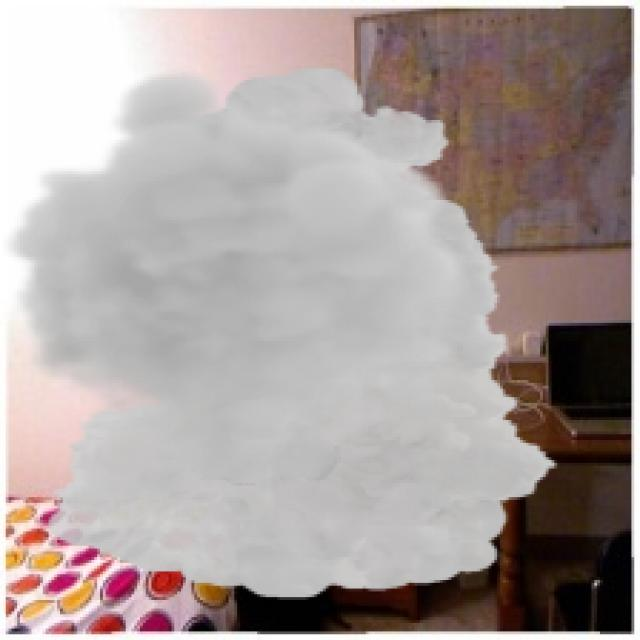smoke: (3, 66, 560, 600)
